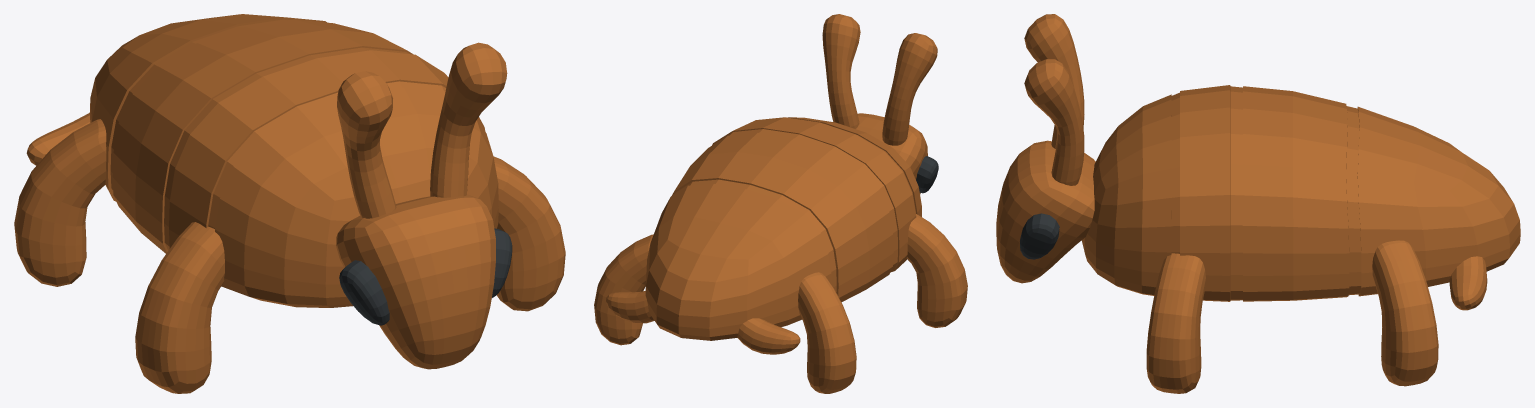
File: cochinilla.glb
The picture shows the model from 3 angles, left to right: view 1: azimuth 30°, elevation 25°; view 2: azimuth 150°, elevation 25°; view 3: azimuth 270°, elevation 25°; orthographic projection. The views are drawn at different scales.
Parts seen in each view (by area): view 1: Cochinilla; view 2: Cochinilla; view 3: Cochinilla.
Part boxes in pixels (x1,y1,x2,y2): Cochinilla: (14,14,565,393); Cochinilla: (594,14,967,393); Cochinilla: (996,14,1520,393).
Size of the model in its own units: 2.53 by 1.99 by 3.37.
